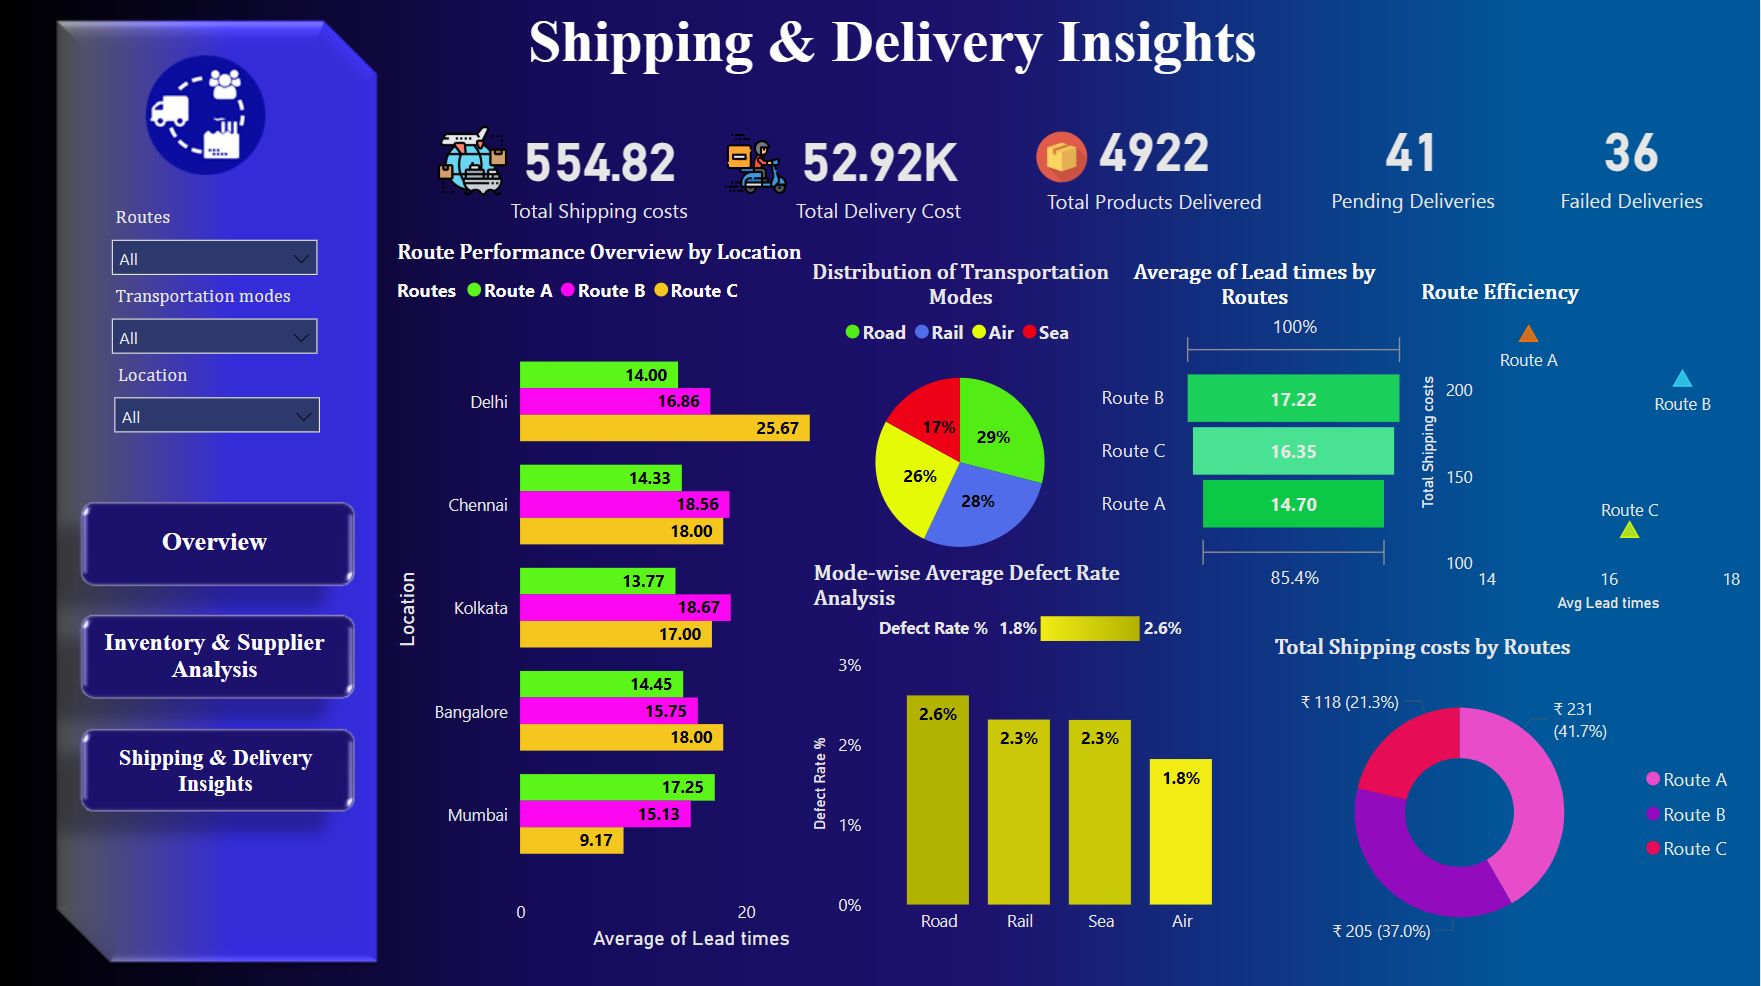

Layout of this report page (visuals, bound fields, positions):
{"tool":"powerbi","page":{"name":"Dashboard 2","canvas":[1280,720],"ordinal":2},"visuals":[{"type":"actionButton","box":[59.1,538.1,195.4,44.6],"z":0},{"type":"actionButton","box":[71.2,450,170.1,54.3],"z":1000},{"type":"actionButton","box":[71.2,371.6,170.1,43.4],"z":2000},{"type":"textbox","box":[378.8,0,621.3,66.4],"z":3000},{"type":"donutChart","title":"Total Shipping costs by Routes","fields":{"Category":["supply_chain_data.Routes"],"Y":["Sum(supply_chain_data.Shipping costs)"]},"box":[921.7,462.1,348.7,242.5],"z":4000},{"type":"card","fields":{"Values":["Calculations Table.Total_Delivery_Cost"]},"box":[529.6,80.8,218.4,86.9],"z":5000},{"type":"card","fields":{"Values":["Sum(supply_chain_data.Shipping costs)"]},"box":[341.4,80.8,188.2,86.9],"z":6000},{"type":"pieChart","title":"Distribution of Transportation Modes","fields":{"Category":["supply_chain_data.Transportation modes"],"Y":["Calculations Table.Mode_Count"]},"box":[550.1,189.4,296.8,232.8],"z":7000},{"type":"clusteredBarChart","title":"Route Performance Overview by Location","fields":{"Category":["supply_chain_data.Location"],"Y":["Avg(supply_chain_data.Lead times)"],"Series":["supply_chain_data.Routes"]},"box":[283.5,174.9,355.9,521.2],"z":8000},{"type":"slicer","fields":{"Values":["supply_chain_data.Transportation modes"]},"box":[71.2,203.9,170.1,57.9],"z":9000},{"type":"slicer","fields":{"Values":["supply_chain_data.Location"]},"box":[72.4,260.6,170.1,76],"z":10000},{"type":"slicer","fields":{"Values":["supply_chain_data.Routes"]},"box":[71.2,146,170.1,60.3],"z":11000},{"type":"clusteredColumnChart","title":"Mode-wise Average Defect Rate Analysis","fields":{"Category":["supply_chain_data.Transportation modes"],"Y":["Calculations Table.DefectRatePct"]},"box":[586.3,407.8,325.7,279.9],"z":12000},{"type":"funnel","fields":{"Category":["supply_chain_data.Routes"],"Y":["Avg(supply_chain_data.Lead times)"]},"box":[796.3,189.4,231.6,246.1],"z":13000},{"type":"scatterChart","title":"Route Efficiency","fields":{"X":["Avg(supply_chain_data.Lead times)"],"Y":["Sum(supply_chain_data.Shipping costs)"],"Series":["supply_chain_data.Routes"]},"box":[1027.9,203.9,242.5,246.1],"z":14000},{"type":"card","fields":{"Values":["Sum(supply_chain_data.Order quantities)"]},"box":[733.5,74.8,212.3,85.7],"z":15000},{"type":"card","fields":{"Values":["Calculations Table.Failed_Inspections"]},"box":[1112.3,62.7,148.4,108.6],"z":16000},{"type":"card","fields":{"Values":["Calculations Table.Pending_Deliveries"]},"box":[951.9,70,152,94.1],"z":17000},{"type":"image","box":[313.7,84.5,60.3,65.1],"z":18000},{"type":"image","box":[521.2,86.9,57.9,62.7],"z":19000},{"type":"image","box":[748,84.5,48.3,59.1],"z":20000}]}

Visuals, with their boxes in screenshot pixels (x1, y1, x2, y2), scaled from the page's 1280x720 canvas onto the 1761x986 screenshot:
actionButton: 81,737,350,798
actionButton: 98,616,332,691
actionButton: 98,509,332,568
textbox: 521,0,1376,91
"Total Shipping costs by Routes" donutChart: 1268,633,1748,965
card - Calculations Table.Total_Delivery_Cost: 729,111,1029,230
card - Sum(supply_chain_data.Shipping costs): 470,111,729,230
"Distribution of Transportation Modes" pieChart: 757,259,1165,578
"Route Performance Overview by Location" clusteredBarChart: 390,240,880,953
slicer - supply_chain_data.Transportation modes: 98,279,332,359
slicer - supply_chain_data.Location: 100,357,334,461
slicer - supply_chain_data.Routes: 98,200,332,283
"Mode-wise Average Defect Rate Analysis" clusteredColumnChart: 807,558,1255,942
funnel - supply_chain_data.Routes x Avg(supply_chain_data.Lead times): 1096,259,1414,596
"Route Efficiency" scatterChart: 1414,279,1748,616
card - Sum(supply_chain_data.Order quantities): 1009,102,1301,220
card - Calculations Table.Failed_Inspections: 1530,86,1734,235
card - Calculations Table.Pending_Deliveries: 1310,96,1519,225
image: 432,116,515,205
image: 717,119,797,205
image: 1029,116,1096,197
